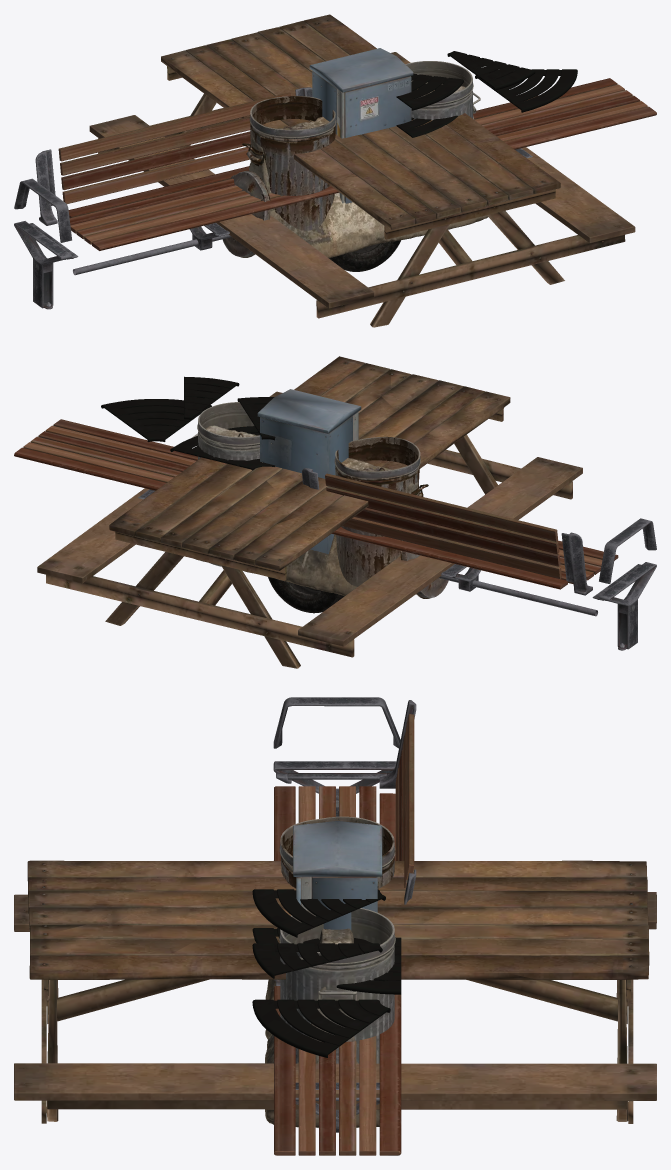
File: props.glb
3 views of the same model, one above another, from view 1: azimuth 30°, elevation 25°; view 2: azimuth 150°, elevation 25°; view 3: azimuth 270°, elevation 25° (orthographic). The views are drawn at different scales.
Parts seen in each view (by area): view 1: wooden_picnic_table, seat_back, seat, metal_trash_can_rust, utility_box_01_box, seat_bench, concrete_road_barrier, legs_single, metal_trash_can, connector_60, connector_30, connector_45 (+7 smaller); view 2: wooden_picnic_table, seat_back, utility_box_01_box, seat_bench, metal_trash_can_rust, seat, concrete_road_barrier, metal_trash_can, connector_60, legs_single, old_tyre, connector_30 (+7 smaller); view 3: wooden_picnic_table, seat_bench, utility_box_01_box, metal_trash_can, connector_60, seat, connector_45, connector_30, seat_back, legs_single, metal_trash_can_rust, connector_90 (+2 smaller).
Boxes of the visible parts, x1,y1,x2,y2 form: wooden_picnic_table: (89, 14, 635, 327); seat_back: (58, 92, 290, 203); seat: (68, 166, 339, 250); metal_trash_can_rust: (246, 96, 336, 230); utility_box_01_box: (309, 48, 413, 203); seat_bench: (473, 78, 656, 149); concrete_road_barrier: (249, 86, 487, 258); legs_single: (14, 221, 78, 309); metal_trash_can: (405, 61, 476, 120); connector_60: (475, 69, 577, 112); connector_30: (447, 51, 535, 90); connector_45: (396, 73, 463, 110); wooden_picnic_table: (37, 356, 582, 668); seat_back: (325, 473, 561, 578); utility_box_01_box: (257, 389, 361, 554); seat_bench: (14, 419, 197, 490); metal_trash_can_rust: (334, 436, 423, 586); seat: (331, 527, 618, 589); concrete_road_barrier: (195, 425, 419, 596); metal_trash_can: (197, 402, 259, 566); connector_60: (101, 399, 211, 441); legs_single: (592, 562, 656, 650); old_tyre: (268, 577, 344, 613); connector_30: (184, 376, 239, 419); wooden_picnic_table: (14, 860, 656, 1123); seat_bench: (274, 986, 401, 1155); utility_box_01_box: (293, 821, 382, 930); metal_trash_can: (279, 908, 395, 1127); connector_60: (252, 999, 390, 1057); seat: (274, 786, 395, 860); connector_45: (252, 889, 385, 937); connector_30: (252, 943, 382, 978); seat_back: (395, 714, 414, 887); legs_single: (273, 761, 396, 816); metal_trash_can_rust: (279, 816, 395, 888); connector_90: (252, 928, 401, 994).
Bounding box in the file's own units: 4.34 × 1.42 × 3.02.
13 materials, 13 textured.
